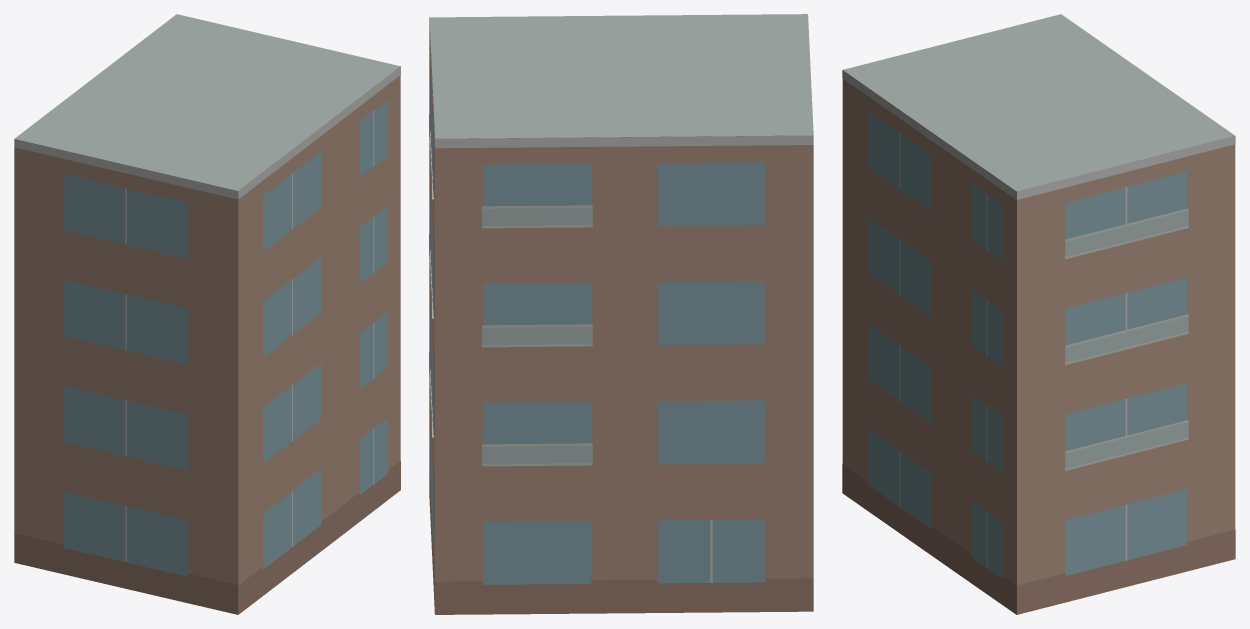
Rendered from residential-18333ed9-9563-4519-956c-9bd51fa9e6da.glb.
The picture shows the model from 3 angles, left to right: view 1: azimuth 30°, elevation 25°; view 2: azimuth 150°, elevation 25°; view 3: azimuth 270°, elevation 25°; orthographic projection. The views are drawn at different scales.
Parts seen in each view (by area): view 1: residential-18333ed9-9563-4519-956c-9bd51fa9e6da.tmp; view 2: residential-18333ed9-9563-4519-956c-9bd51fa9e6da.tmp; view 3: residential-18333ed9-9563-4519-956c-9bd51fa9e6da.tmp.
Boxes of the visible parts, x1,y1,x2,y2 form: residential-18333ed9-9563-4519-956c-9bd51fa9e6da.tmp: (14, 14, 400, 614); residential-18333ed9-9563-4519-956c-9bd51fa9e6da.tmp: (429, 14, 813, 614); residential-18333ed9-9563-4519-956c-9bd51fa9e6da.tmp: (842, 14, 1235, 614).
Bounding box in the file's own units: 10.98 × 12.2 × 10.27.
